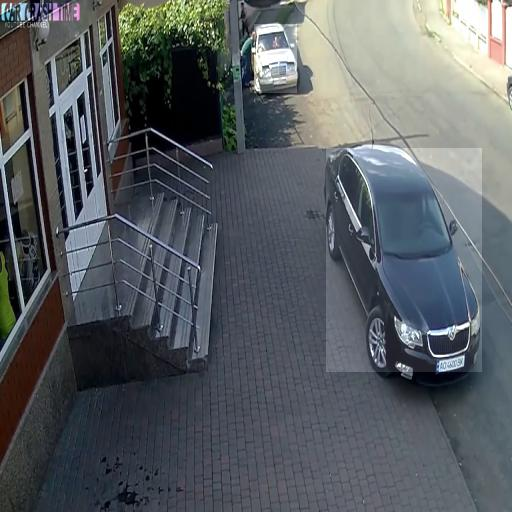小汽车: (326, 148, 482, 372), (254, 24, 297, 93)
